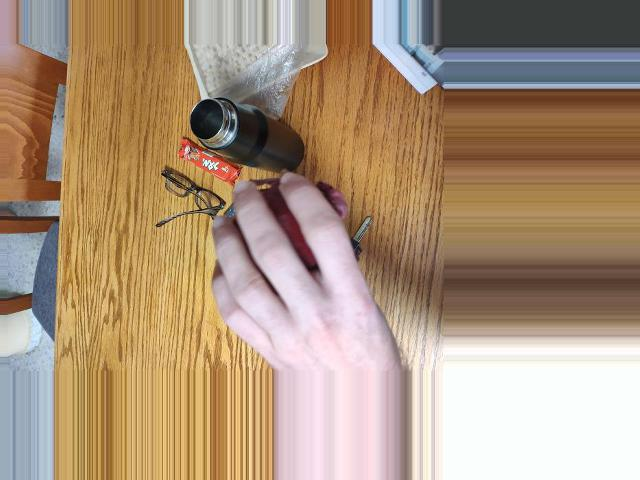onion: (217, 199, 349, 293)
